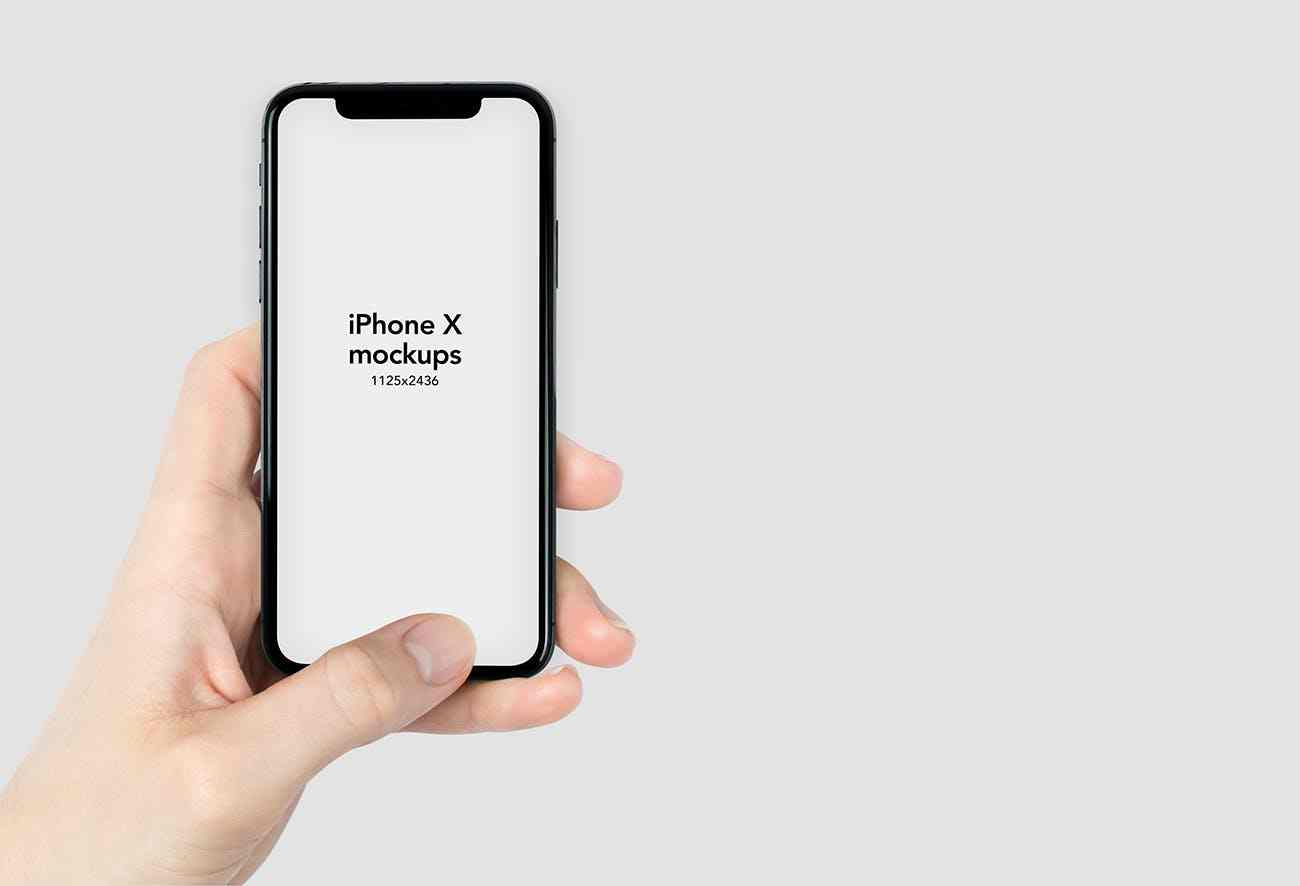phone: (73, 68, 661, 886)
